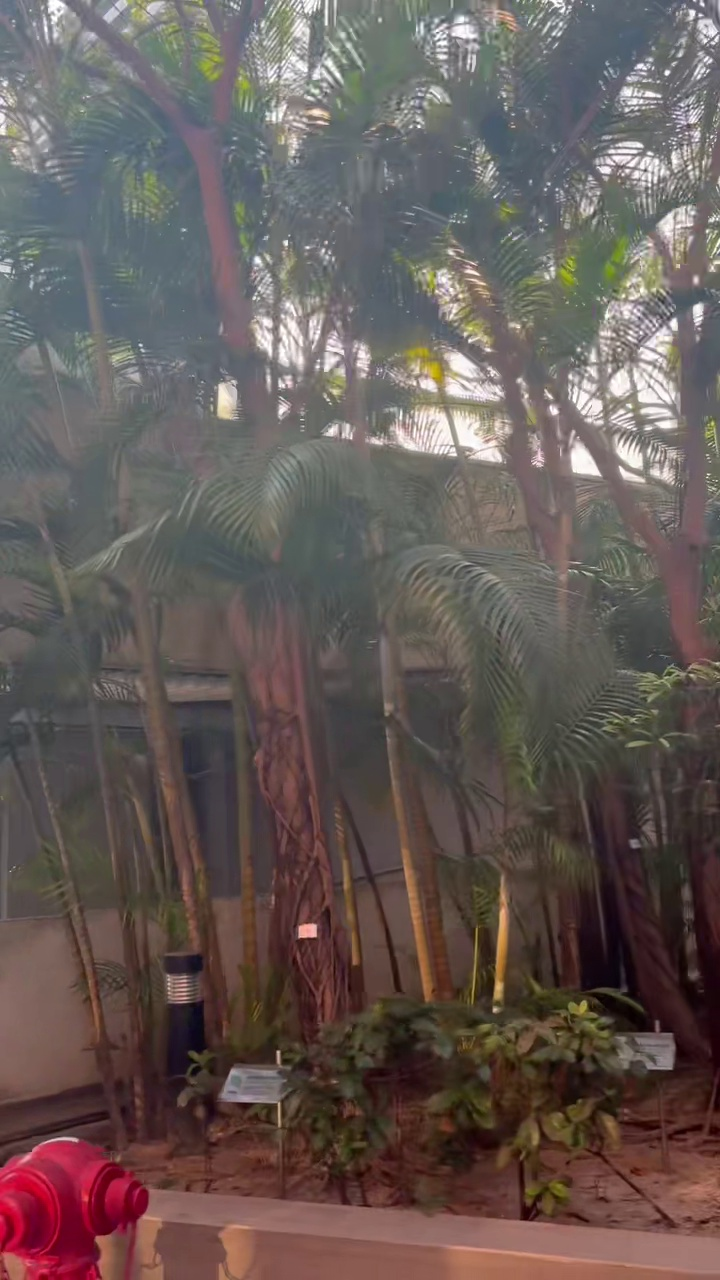Ficus benjamina: (67, 0, 349, 1034)
